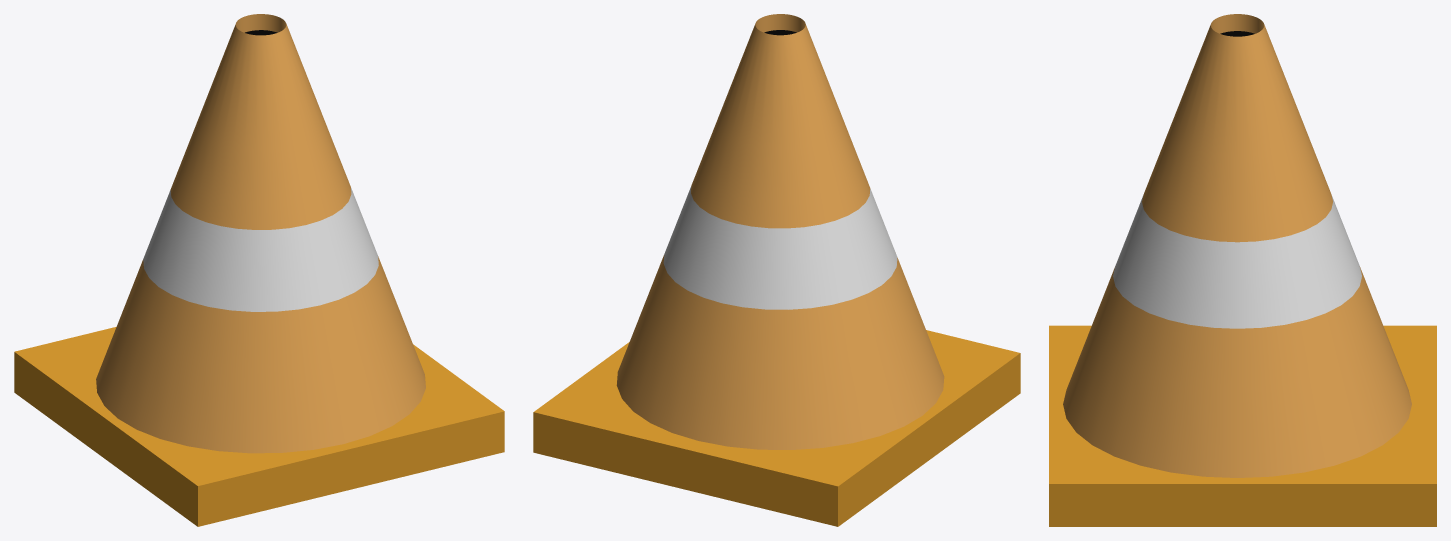
Rendered from traffic cone.fbx.
3 renders of one model, left to right at view 1: azimuth 30°, elevation 25°; view 2: azimuth 150°, elevation 25°; view 3: azimuth 270°, elevation 25°, orthographic. The views are drawn at different scales.
Visible parts, largest first — view 1: Cylinder, Cube; view 2: Cylinder, Cube; view 3: Cylinder, Cube.
Boxes of the visible parts, x1,y1,x2,y2 form: Cylinder: (96,14,425,453); Cube: (14,327,504,526); Cylinder: (616,14,944,449); Cube: (533,330,1020,526); Cylinder: (1063,14,1411,477); Cube: (1049,325,1436,526).
Size of the model in its own units: 270 by 336 by 280.
